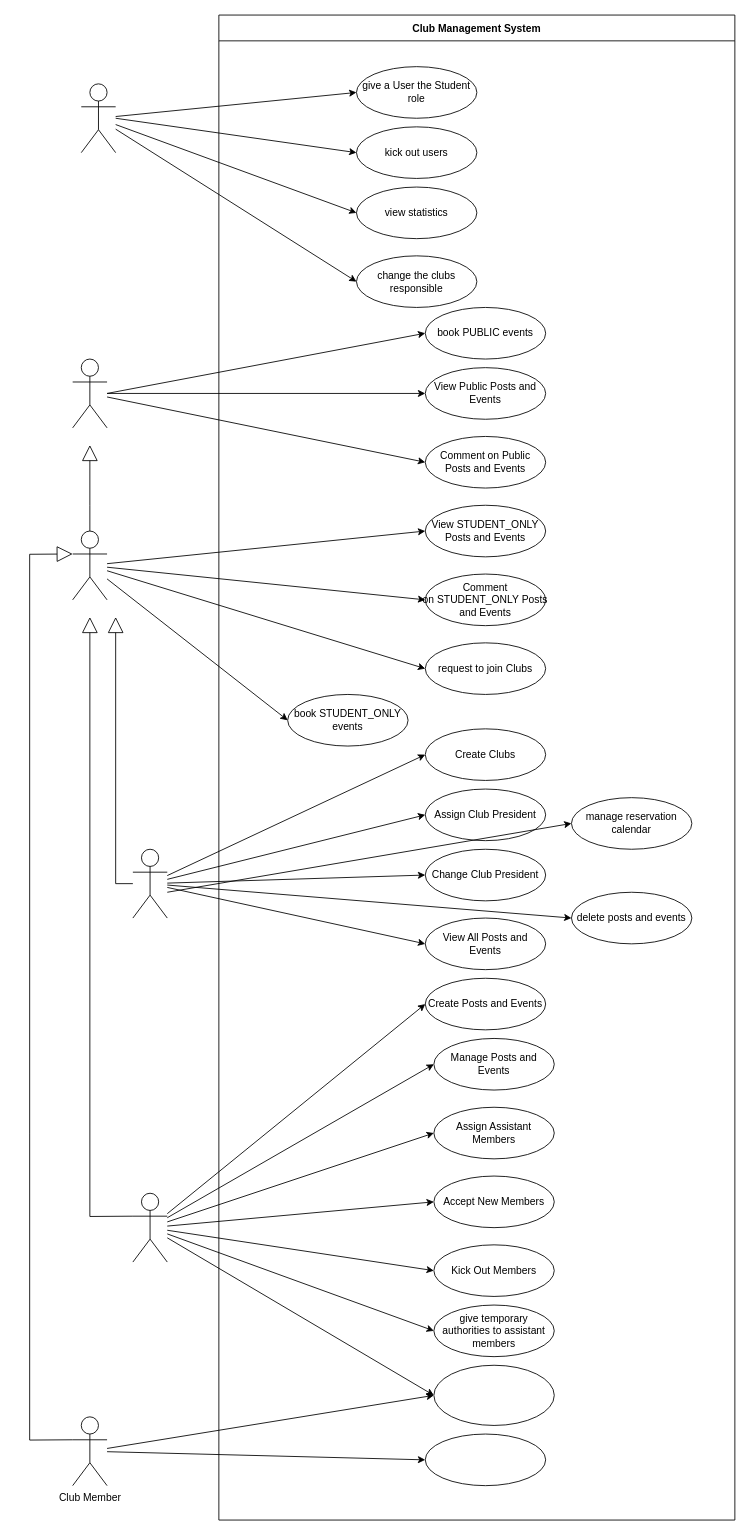
The diagram is 750 pixels wide and 1535 high, and some of its shapes have lost their labels. The shapes that lost their labels are listed below. From the top down, each one's centre as x and y in pixels, then its label:
At point (98, 118): "Admin".
At point (89, 393): "User".
At point (89, 565): "Student".
At point (149, 883): "Clubs Responsible".
At point (149, 1227): "Club President".
At point (493, 1394): "Comment on Private Posts and Events".
At point (485, 1459): "View Private Posts and Events".
